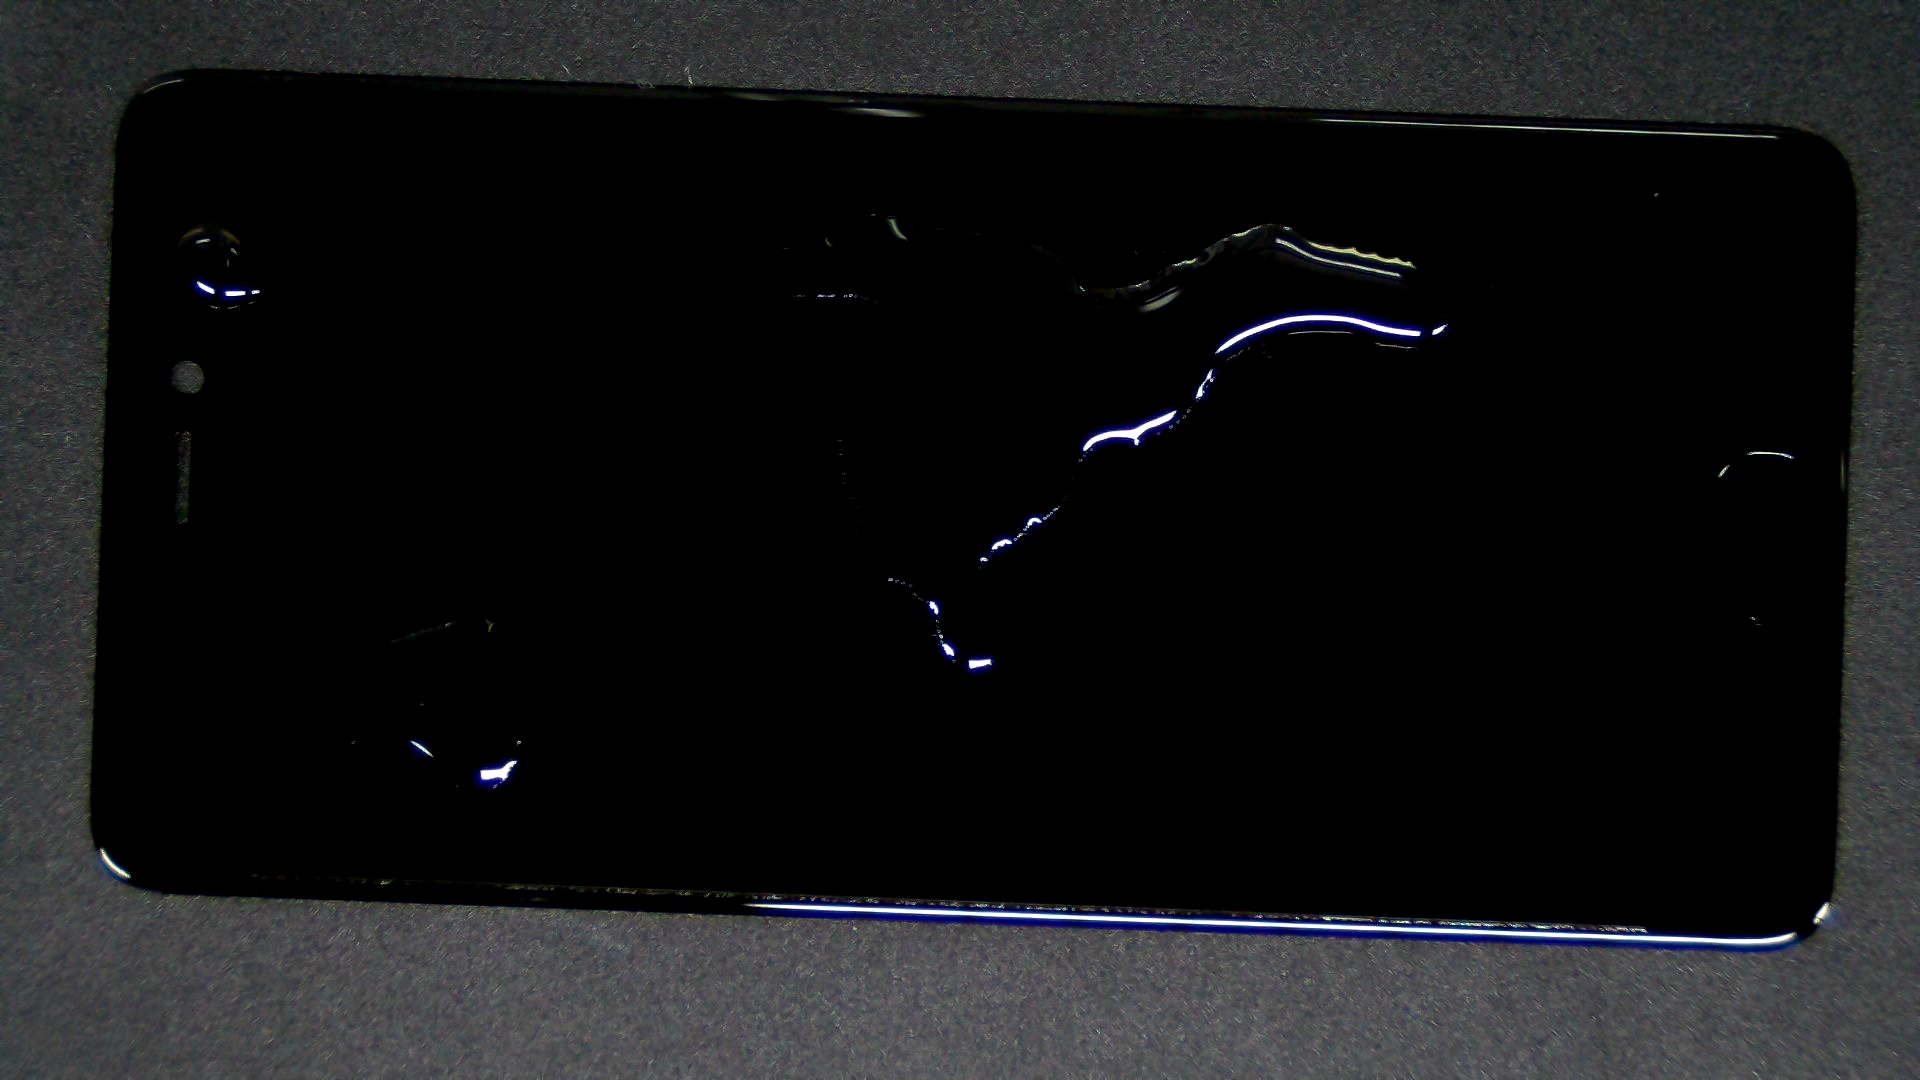oil: (233, 307, 700, 923), (439, 105, 1315, 319), (103, 109, 309, 328)
